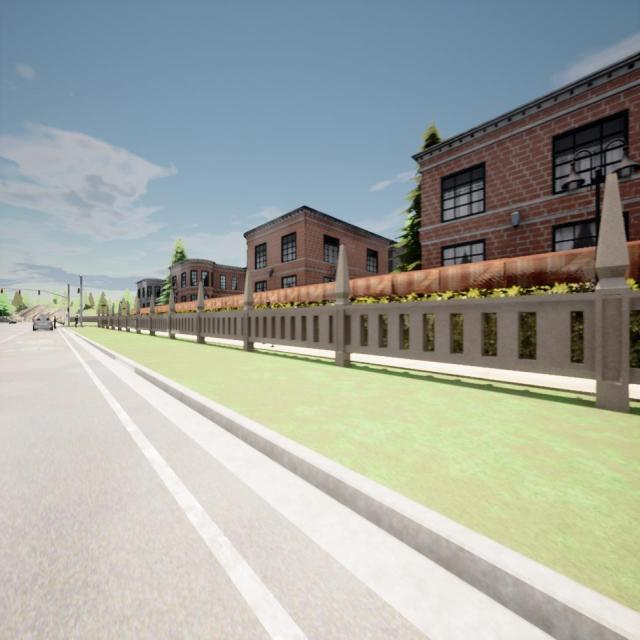Pedestrian: (74, 314, 79, 327), (53, 316, 57, 329)
Vehicle: (32, 317, 54, 331), (9, 320, 17, 324)
traffic_light: (77, 288, 80, 293), (67, 307, 69, 312), (1, 288, 3, 293), (19, 289, 20, 294), (39, 290, 40, 295)
